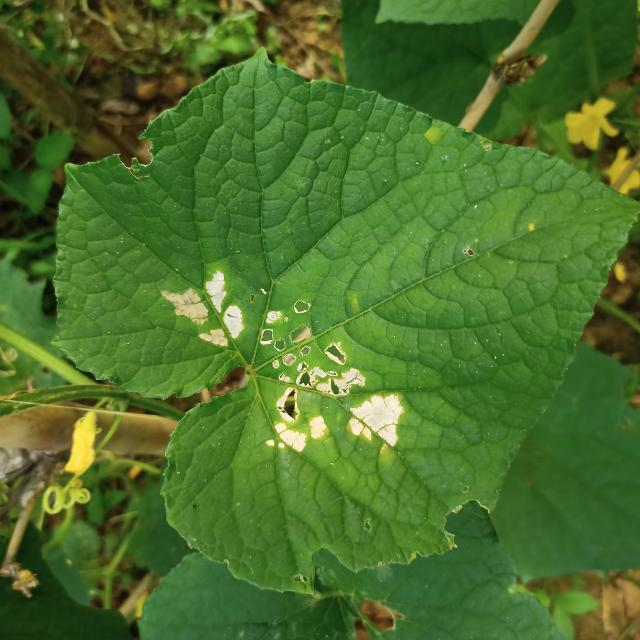disease_cucumber: (252, 295, 410, 461), (158, 268, 251, 354)
